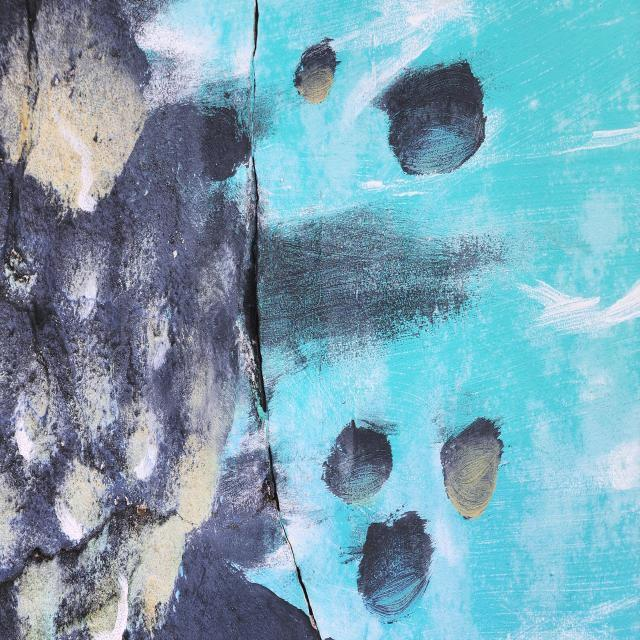SurfaceCrack: (163, 1, 364, 640)
